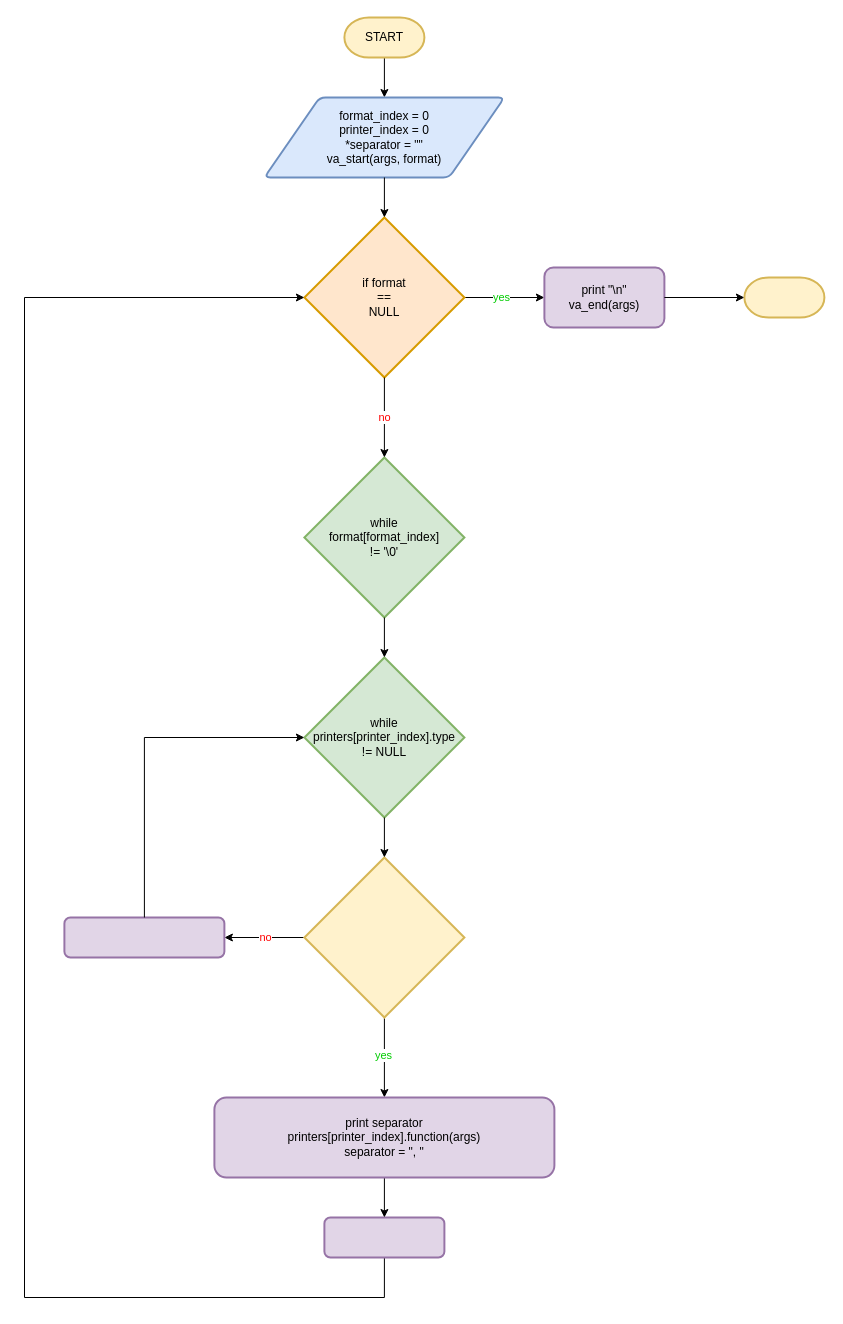
The diagram is 843 pixels wide and 1324 high, and some of its shapes have lost their labels. The shapes that lost their labels are listed below. From the top down, each one's centre as x and y in pixels, then its label:
the point at 784,297: END
the point at 144,937: printer_index++
the point at 384,937: if format[format_index] == *printers[printer_index].type
the point at 384,1237: format_index ++ printer_index = 0
